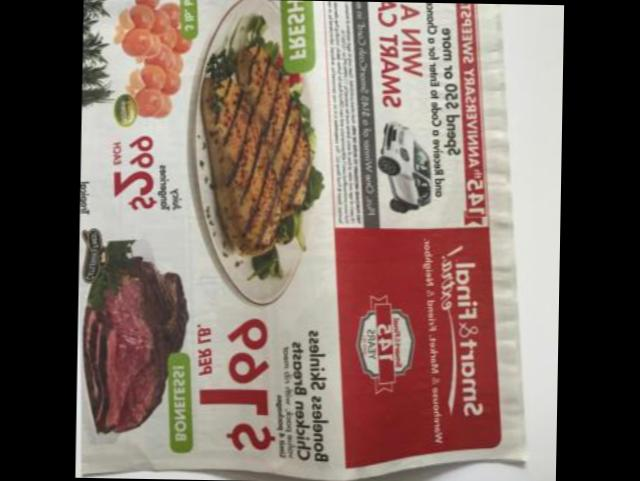cardboard paper: (79, 0, 522, 475)
